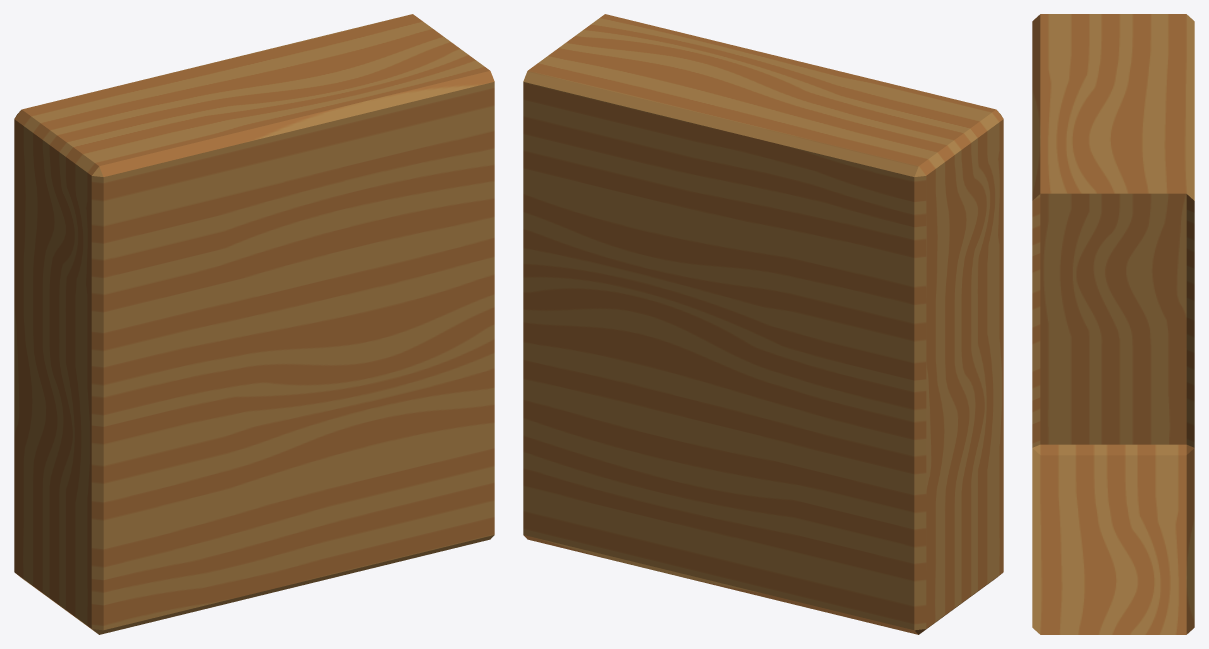
File: board_03.FBX
The picture shows the model from 3 angles, left to right: view 1: azimuth 30°, elevation 25°; view 2: azimuth 150°, elevation 25°; view 3: azimuth 270°, elevation 25°; orthographic projection. The views are drawn at different scales.
Parts seen in each view (by area): view 1: board_005; view 2: board_005; view 3: board_005.
Boxes of the visible parts, bbox=[...] form: board_005: bbox=[14, 14, 494, 634]; board_005: bbox=[523, 14, 1003, 634]; board_005: bbox=[1032, 14, 1194, 634].
Bounding box in the file's own units: 52.56 × 59.06 × 19.69.
